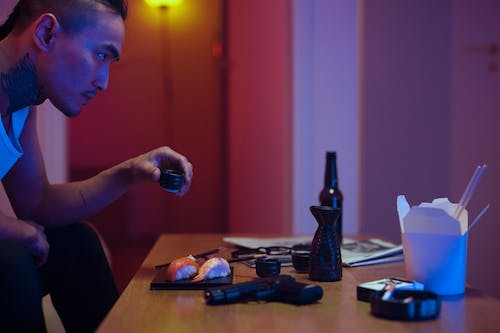alcohol: (307, 202, 344, 283), (317, 149, 344, 246), (156, 167, 186, 193), (253, 255, 280, 278), (290, 250, 311, 275)
cigarette: (353, 276, 426, 305), (380, 283, 397, 300), (402, 295, 414, 304)
gun: (200, 273, 324, 308)
